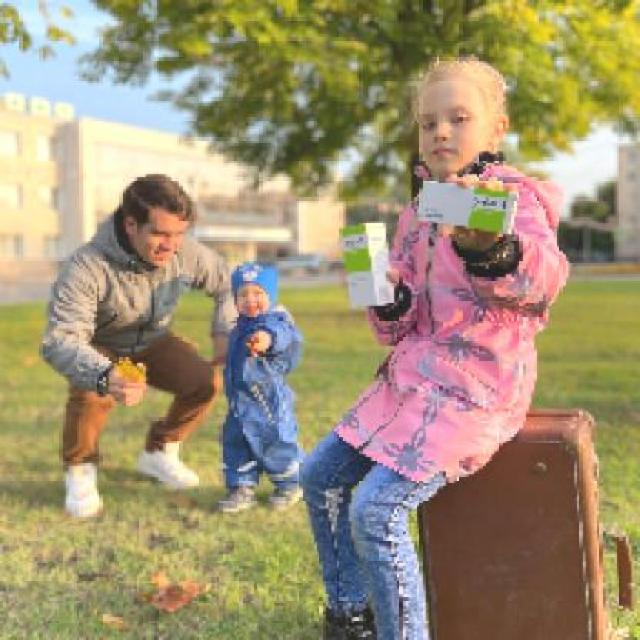child: (297, 57, 572, 637), (214, 261, 306, 516)
